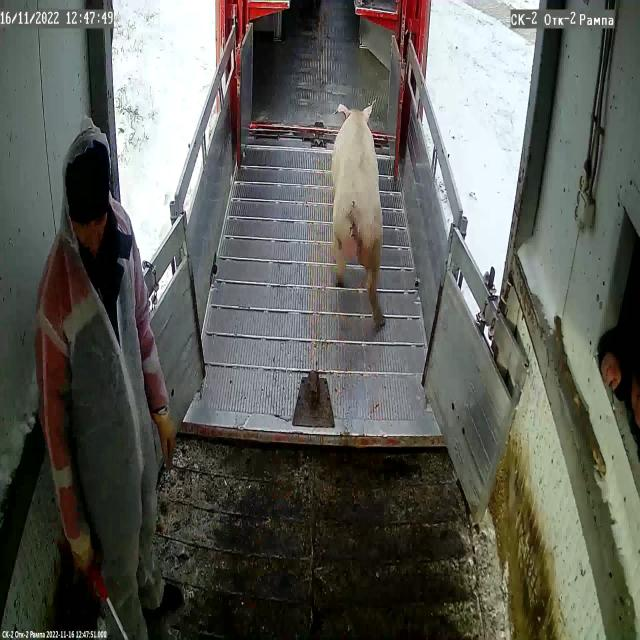pig: (332, 104, 383, 319)
